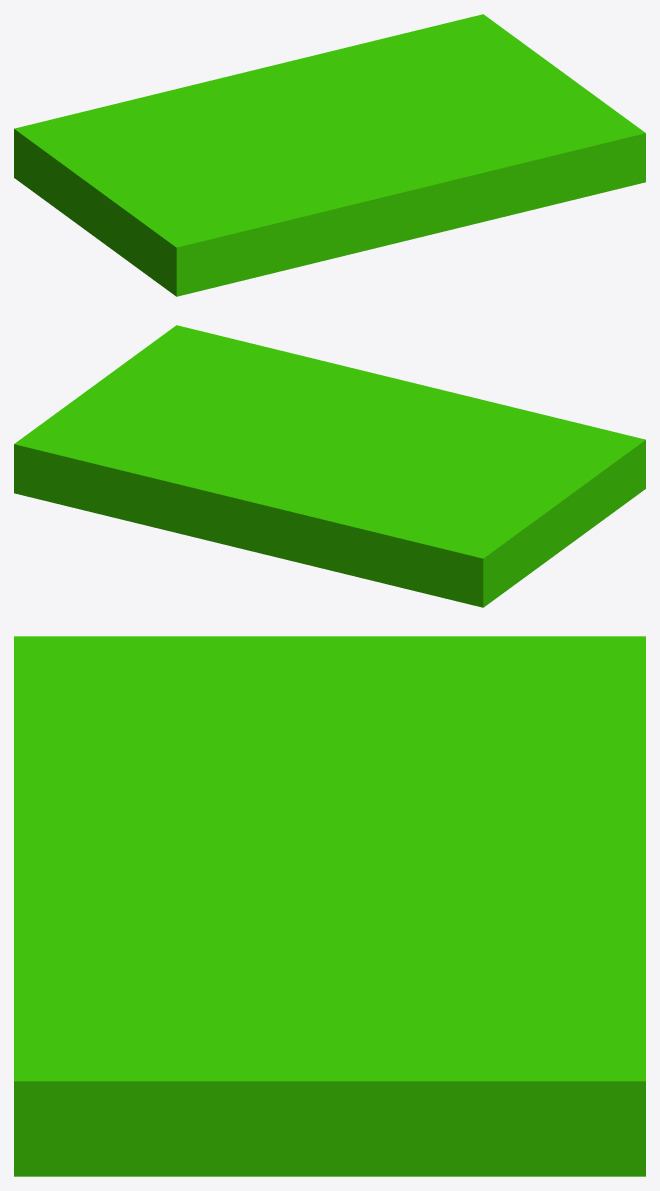
File: side.fbx
The picture shows the model from 3 angles, top to bottom: view 1: azimuth 30°, elevation 25°; view 2: azimuth 150°, elevation 25°; view 3: azimuth 270°, elevation 25°; orthographic projection. The views are drawn at different scales.
Parts seen in each view (by area): view 1: Box001; view 2: Box001; view 3: Box001.
Boxes of the visible parts, x1,y1,x2,y2 form: Box001: (14,14,645,296); Box001: (14,325,645,607); Box001: (14,636,645,1176).
Bounding box in the file's own units: 400 × 40 × 240.
